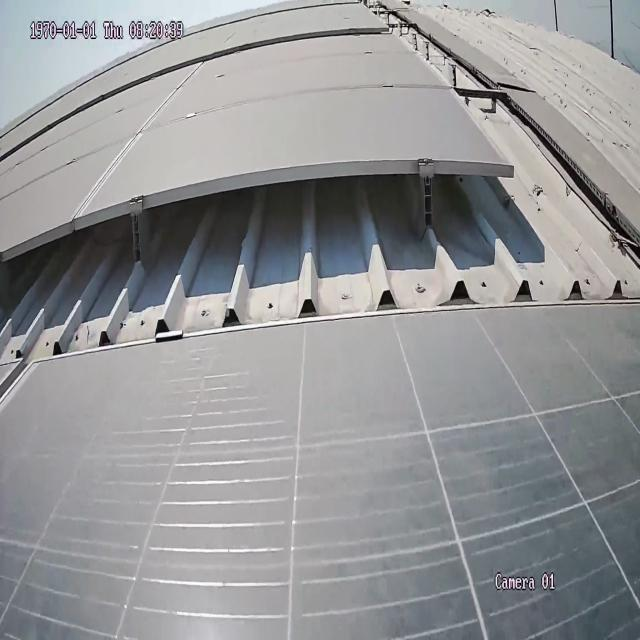interior panel: (67, 63, 213, 219), (0, 356, 37, 418)
outher panel: (0, 0, 640, 357)
